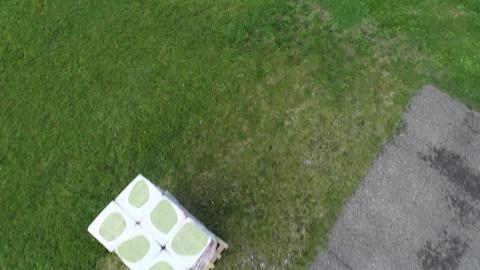RockwoolPallet: (87, 174, 224, 270)
